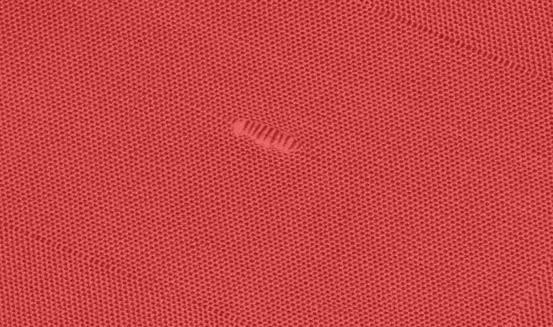slub: (228, 119, 302, 158)
